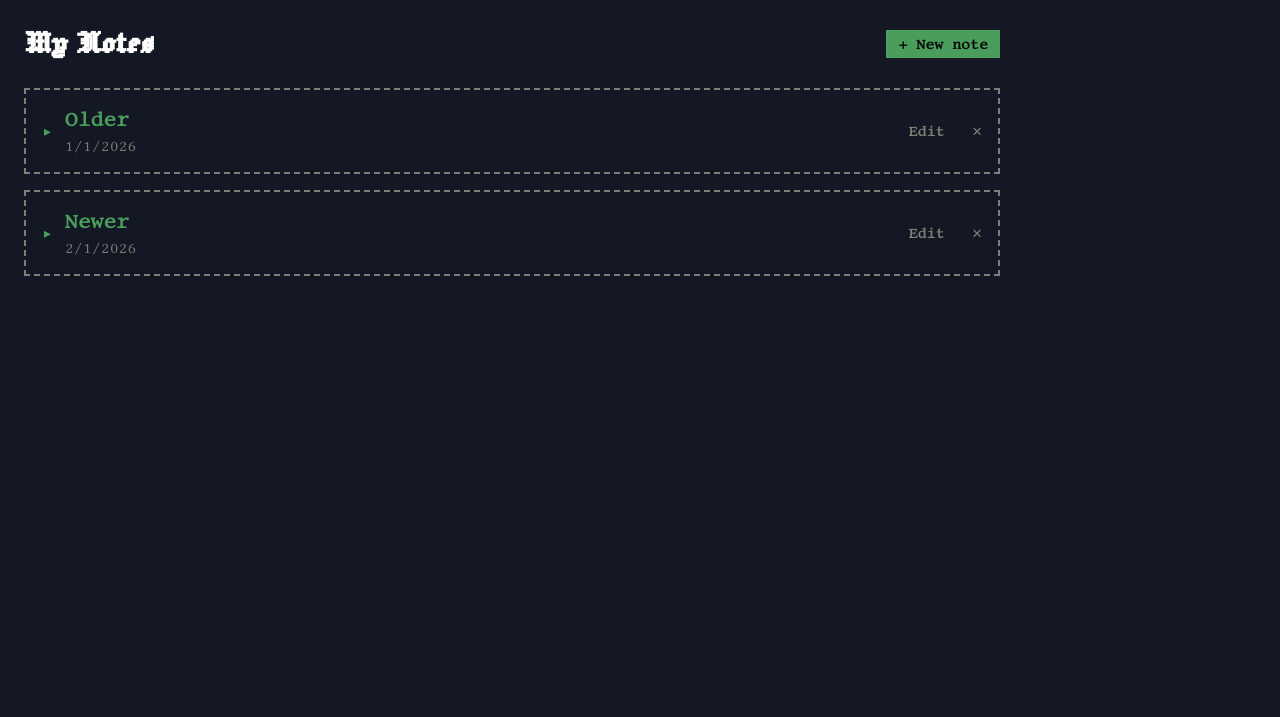
it: Notes › queues an edit to a server note when offline
Expected: the text "Older" is shown, [65, 106, 136, 134]
Step 1. Click the button with aria-label "Edit Older" → (926, 131), box [896, 121, 956, 141]
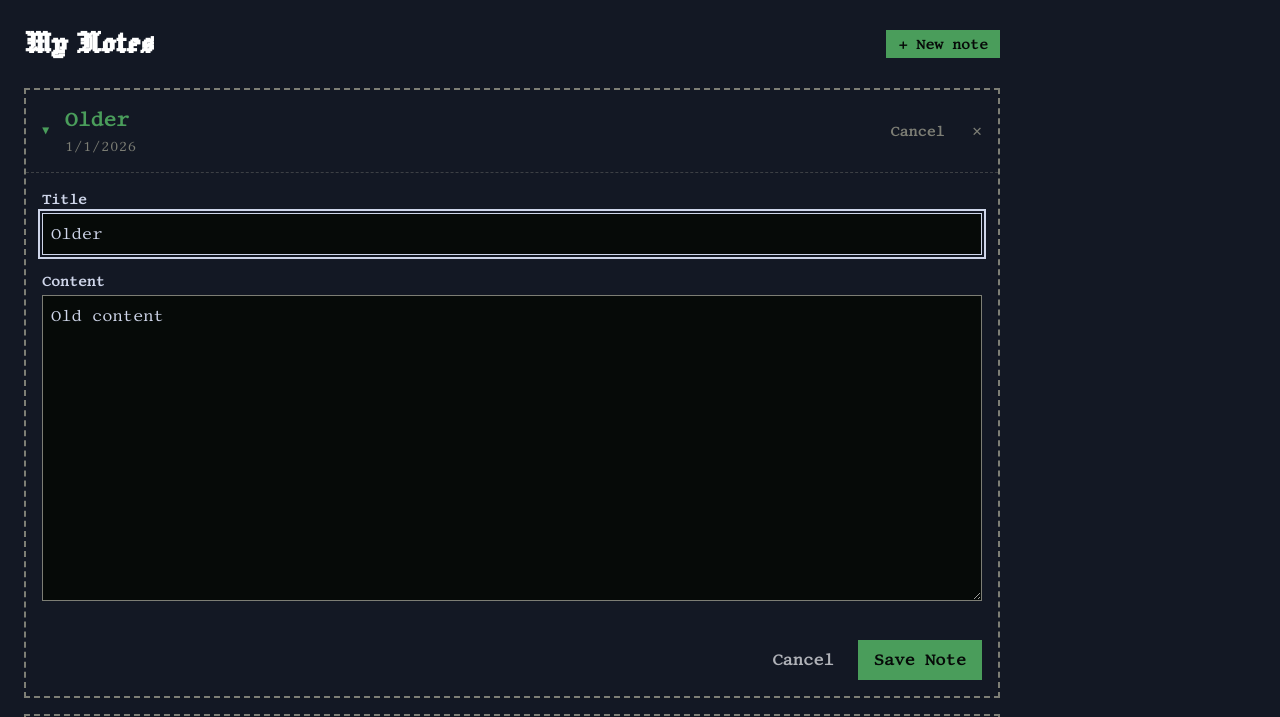
Step 2. Replace the text in the field showing "Older" with "Older edited" → (512, 234), box [42, 213, 982, 255]
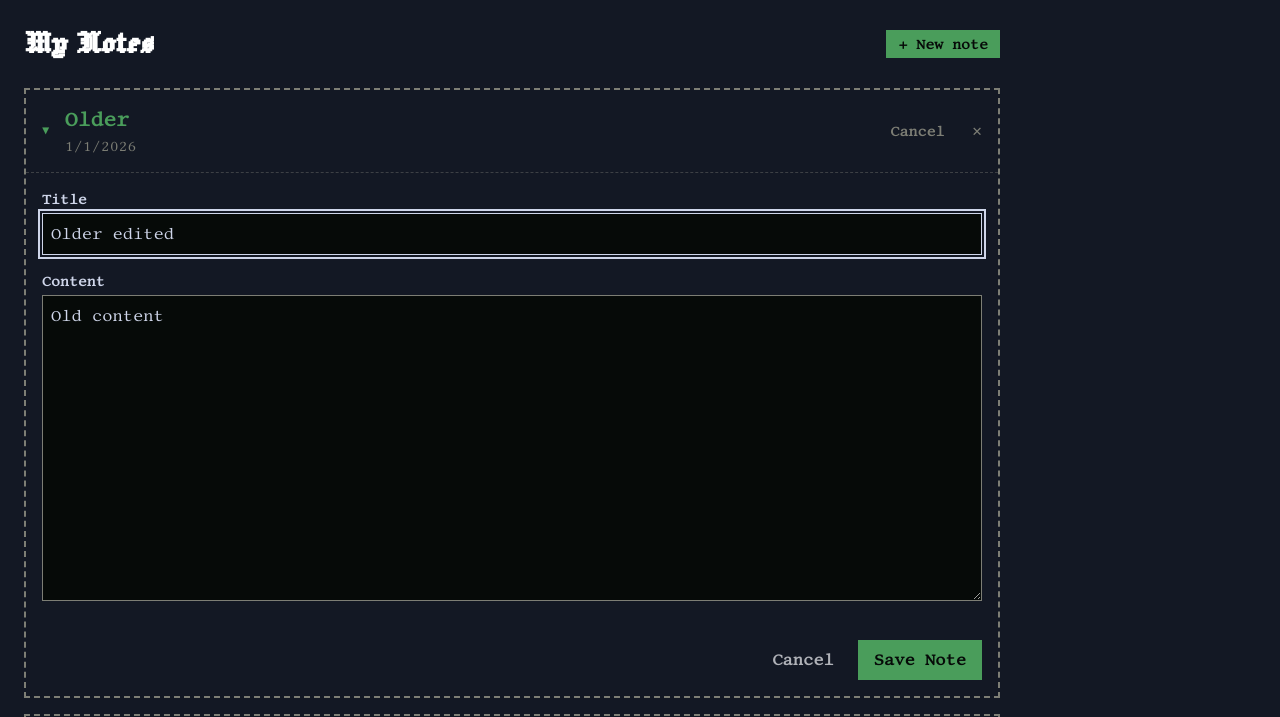
Step 3. Click the button "Save Note" → (920, 660), box [858, 640, 982, 680]
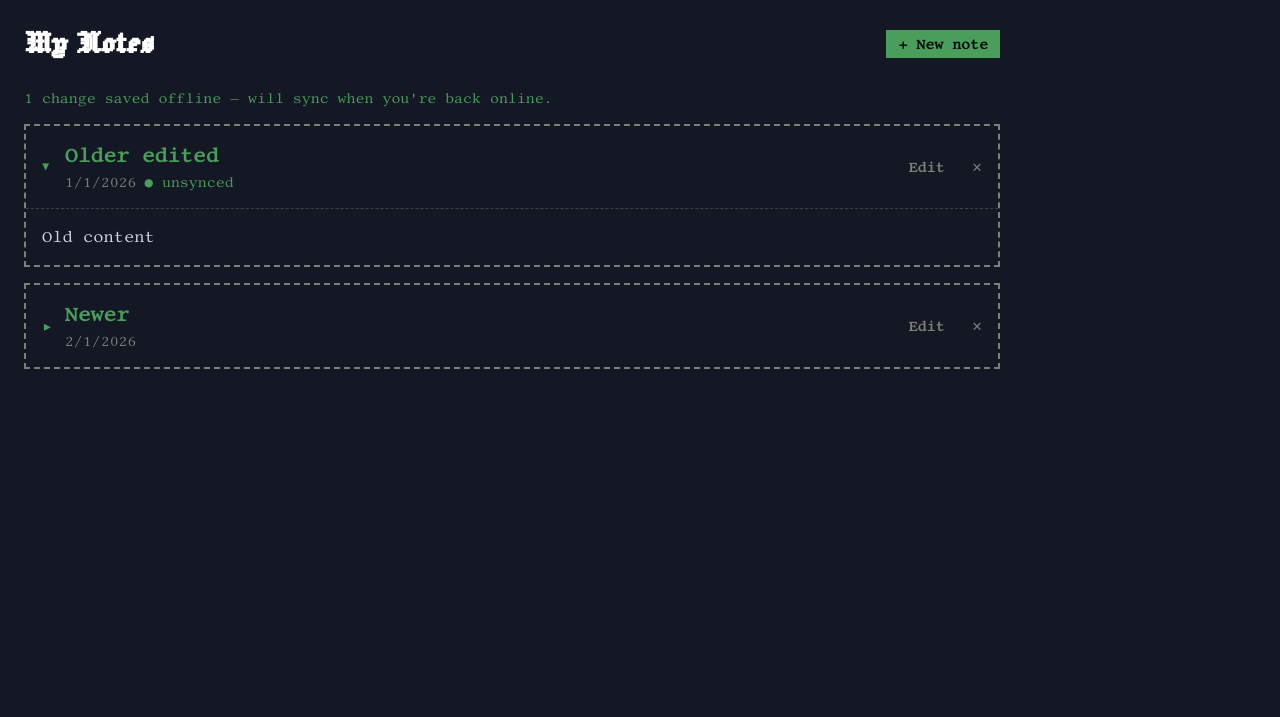
Expected: the text "Older edited" is shown, [65, 142, 234, 170]
Expected: the text "● unsynced" is shown, [144, 174, 234, 190]
